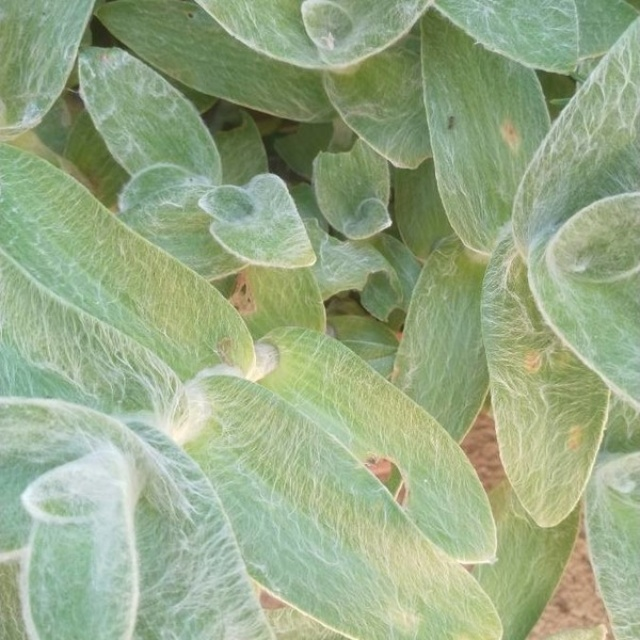obstacle: (20, 141, 462, 622), (195, 4, 609, 498)
